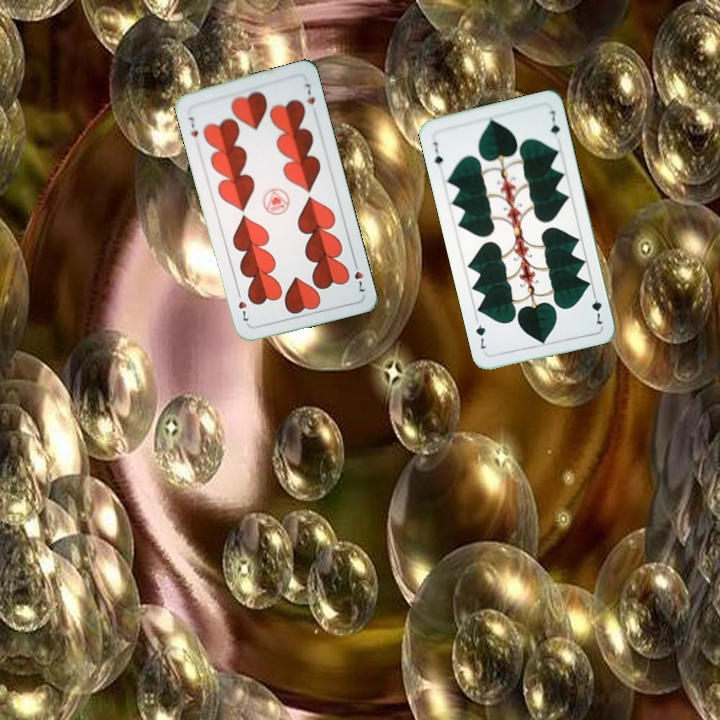G7: (588, 288, 606, 328), (429, 138, 445, 168)
H7: (349, 256, 367, 295), (185, 113, 201, 140)
